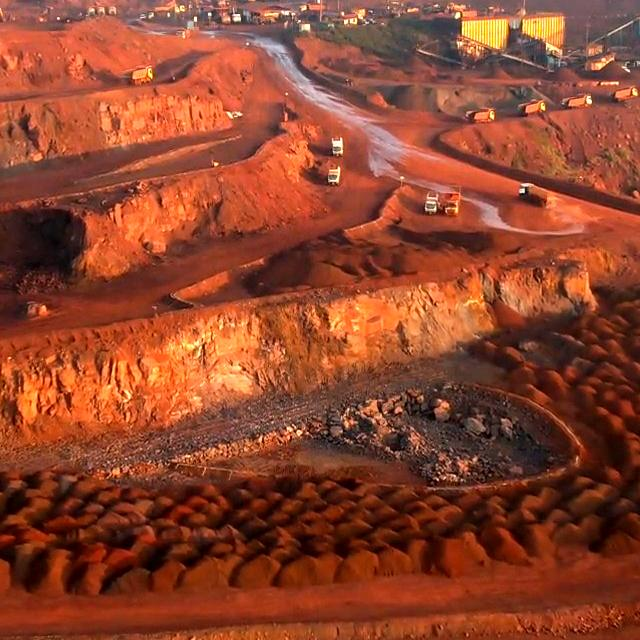Dumper truck: (127, 63, 153, 84), (467, 106, 496, 123), (521, 98, 545, 114), (565, 94, 593, 106), (613, 87, 638, 99)
car: (425, 191, 441, 215), (330, 134, 347, 156), (328, 164, 340, 185)
